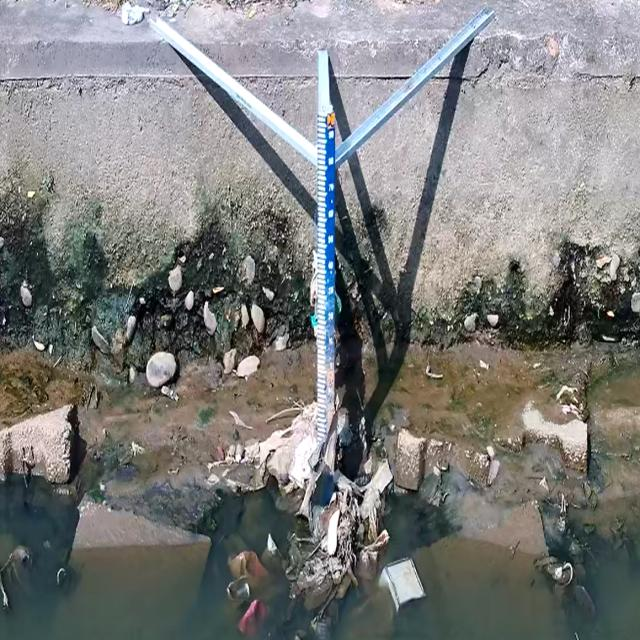water-meter: (314, 106, 342, 458)
